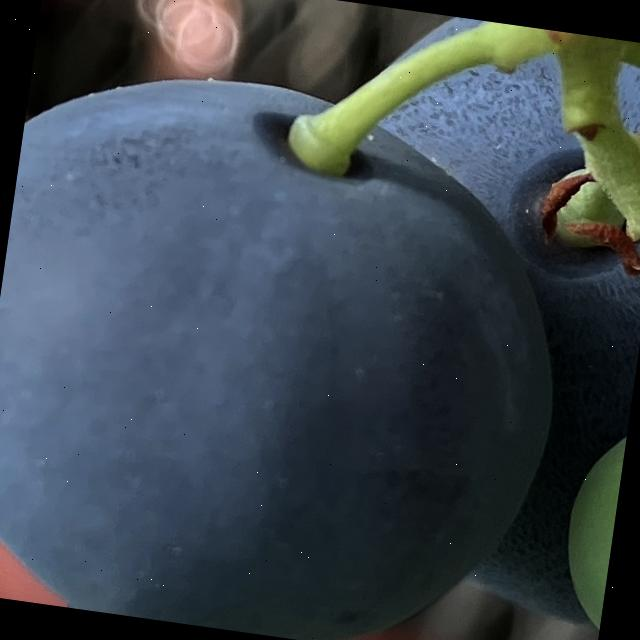Blueberries: (0, 42, 598, 640)
